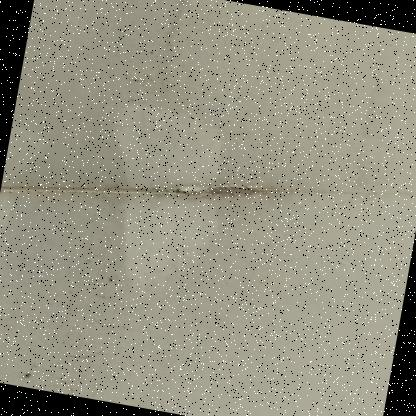Crack: (0, 110, 375, 289)
